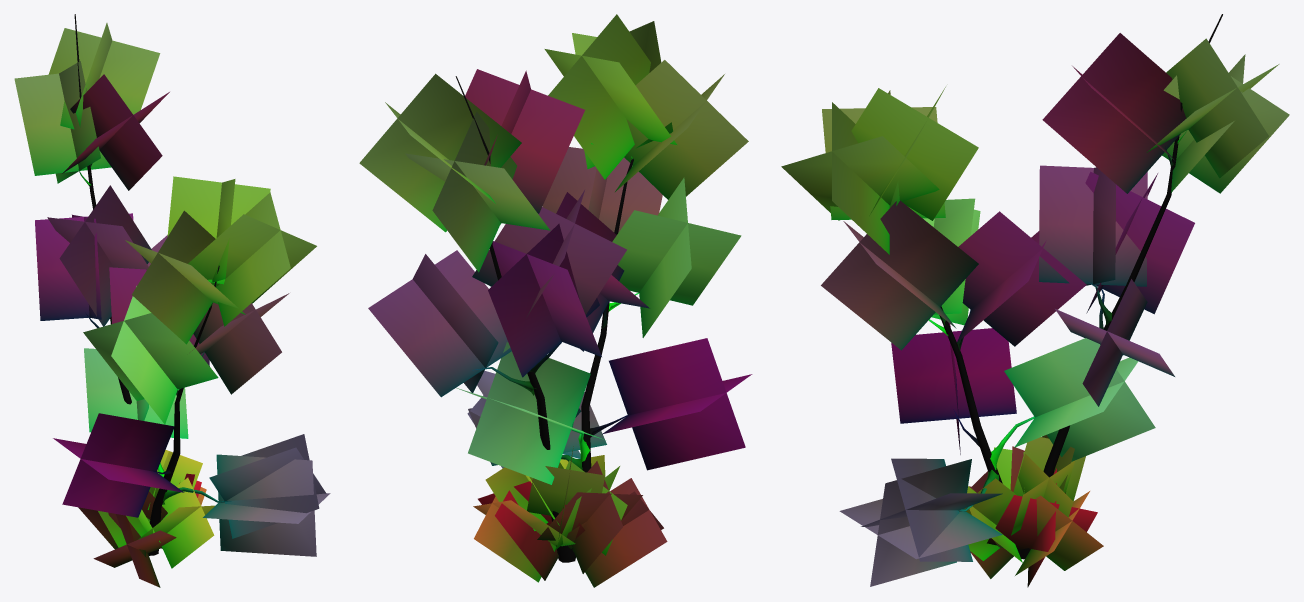
File: URP_P12_Tree_8_LOD_3.fbx
3 views of the same model, side by side, from view 1: azimuth 30°, elevation 25°; view 2: azimuth 150°, elevation 25°; view 3: azimuth 270°, elevation 25° (orthographic). The views are drawn at different scales.
Visible parts, largest first — view 1: Tree_8_LOD_3; view 2: Tree_8_LOD_3; view 3: Tree_8_LOD_3.
Part boxes in pixels (left/top/right/bottom): Tree_8_LOD_3: left=14, top=14, right=330, bottom=587; Tree_8_LOD_3: left=359, top=14, right=752, bottom=587; Tree_8_LOD_3: left=781, top=14, right=1289, bottom=587.
Size of the model in its own units: 195 by 365 by 294.
